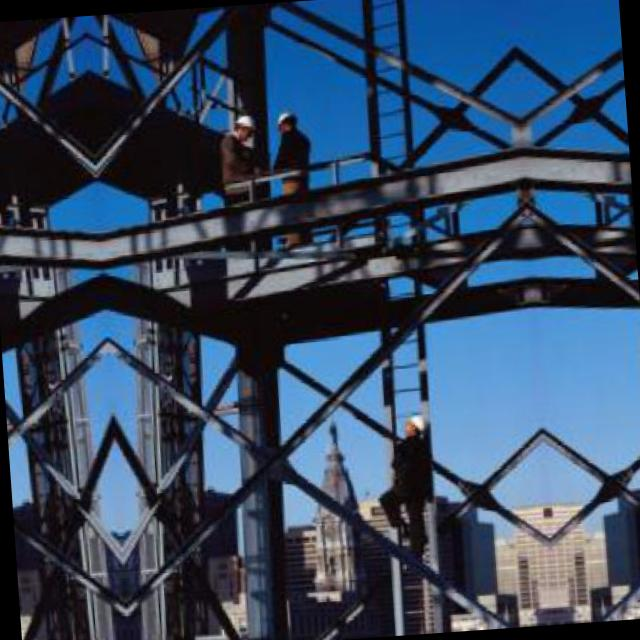helmet: (226, 106, 256, 144), (401, 410, 427, 439), (272, 108, 297, 134)
